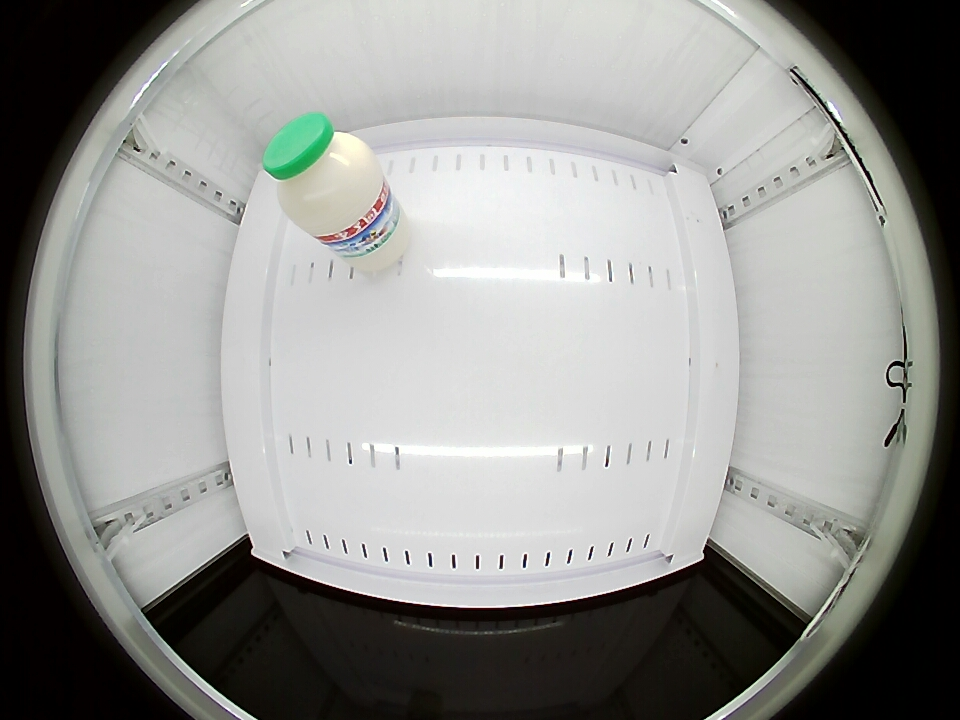liziyuan: (263, 113, 385, 239)
